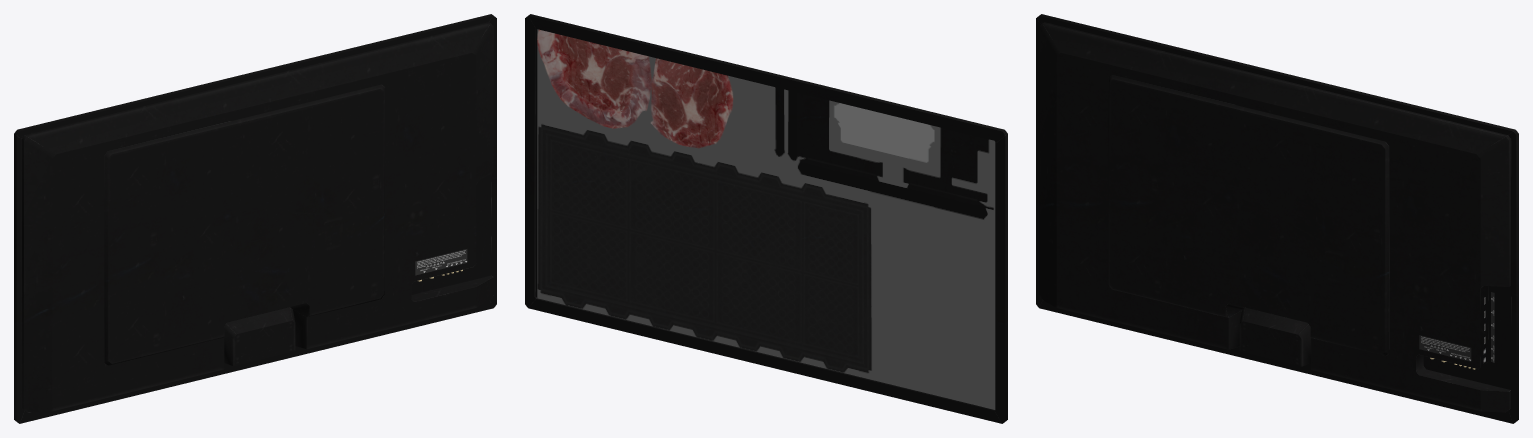
The model's file is Prop_Television.fbx.
The picture shows the model from 3 angles, left to right: view 1: azimuth 30°, elevation 25°; view 2: azimuth 150°, elevation 25°; view 3: azimuth 330°, elevation 25°; orthographic projection.
Parts seen in each view (by area): view 1: Prop_Television_Base; view 2: Prop_Television_Screen, Prop_Television_Base; view 3: Prop_Television_Base.
Boxes of the visible parts, <box> form: Prop_Television_Base: <box>14,14,496,423</box>; Prop_Television_Screen: <box>537,29,995,409</box>; Prop_Television_Base: <box>525,14,1007,423</box>; Prop_Television_Base: <box>1036,14,1518,423</box>.
Bounding box in the file's own units: 63.61 × 37 × 2.68.
